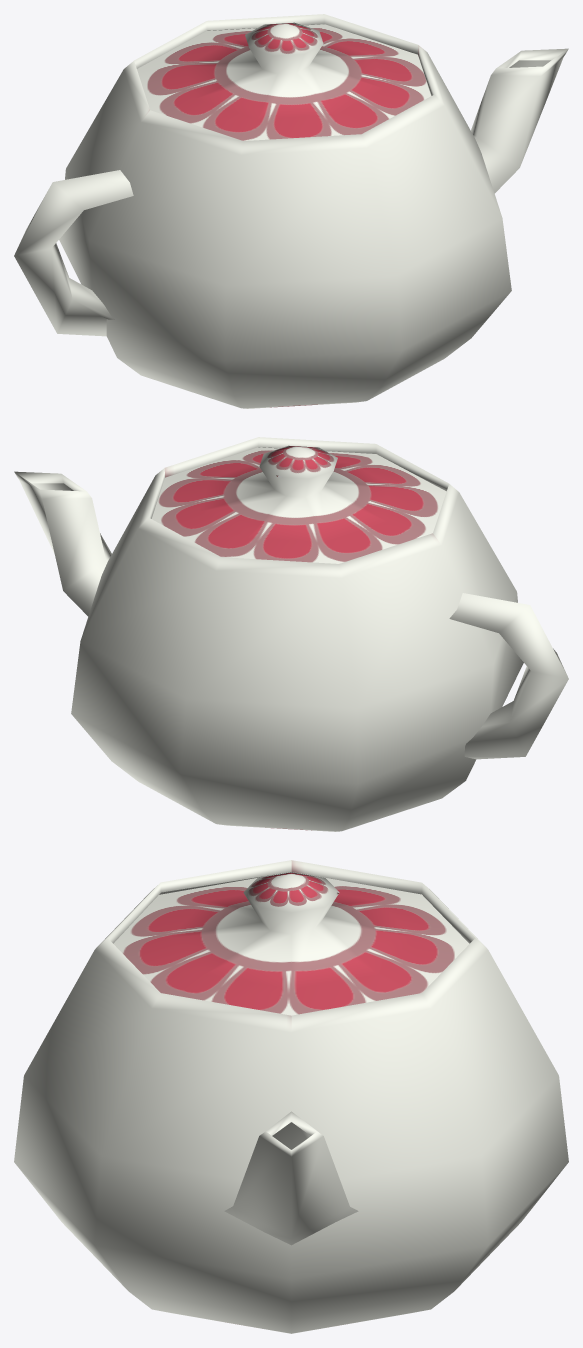
Rendered from Tea_Pot_A.FBX.
The picture shows the model from 3 angles, top to bottom: view 1: azimuth 30°, elevation 25°; view 2: azimuth 150°, elevation 25°; view 3: azimuth 270°, elevation 25°; orthographic projection. The views are drawn at different scales.
Visible parts, largest first — view 1: TeaPot; view 2: TeaPot; view 3: TeaPot.
Boxes of the visible parts, x1,y1,x2,y2 form: TeaPot: [14, 14, 568, 408]; TeaPot: [14, 437, 568, 831]; TeaPot: [14, 860, 568, 1333].
Bounding box in the file's own units: 76.31 × 43.49 × 55.6.
